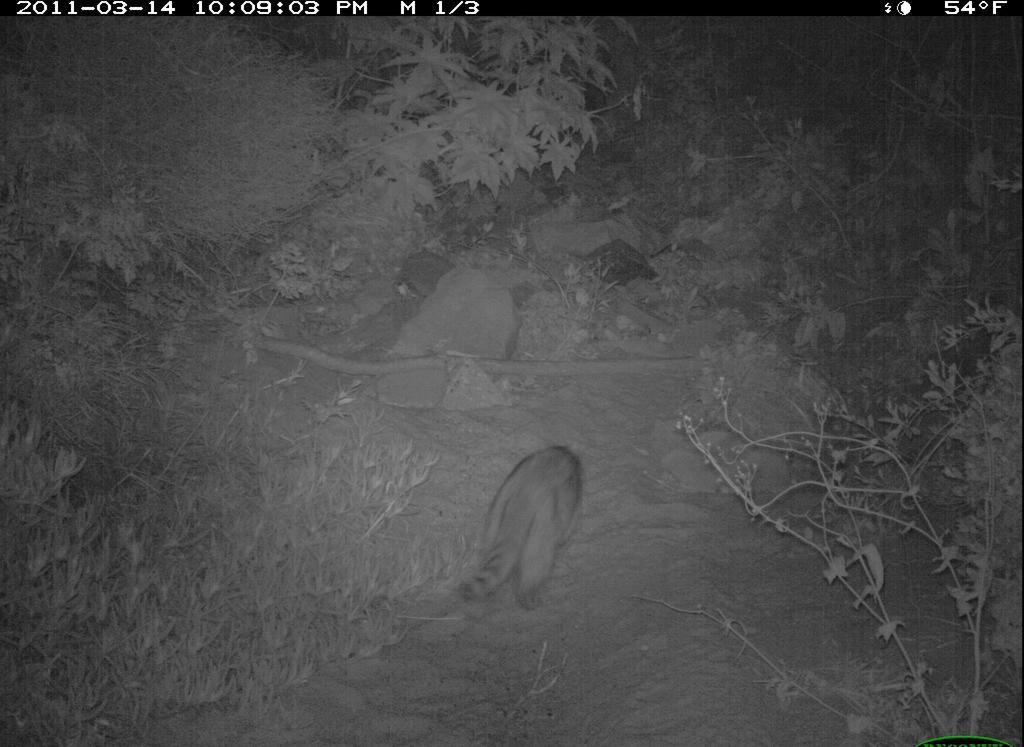raccoon: (455, 441, 593, 621)
